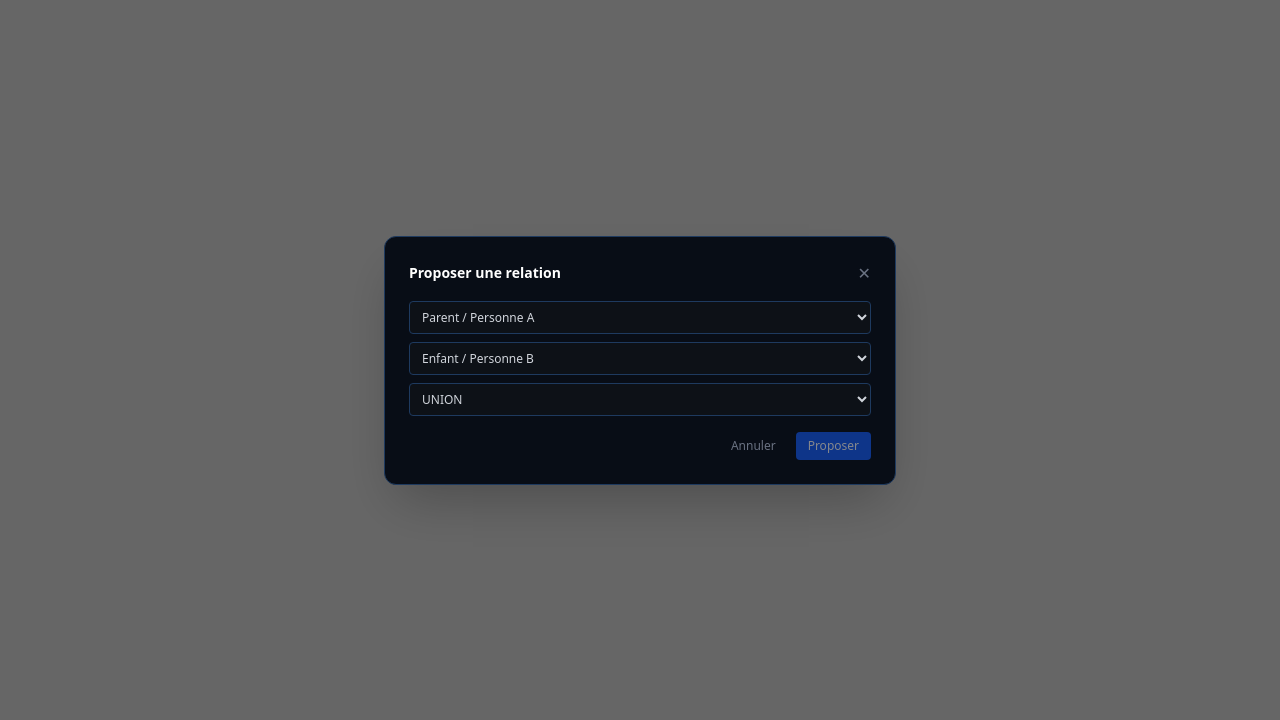
Test case: SuggestionModal — ADD_RELATIONSHIP › shows error when same person selected for A and B
Select "Jean Dupont" in the 1st dropdown at (640, 317), box 409,300 -> 871,334
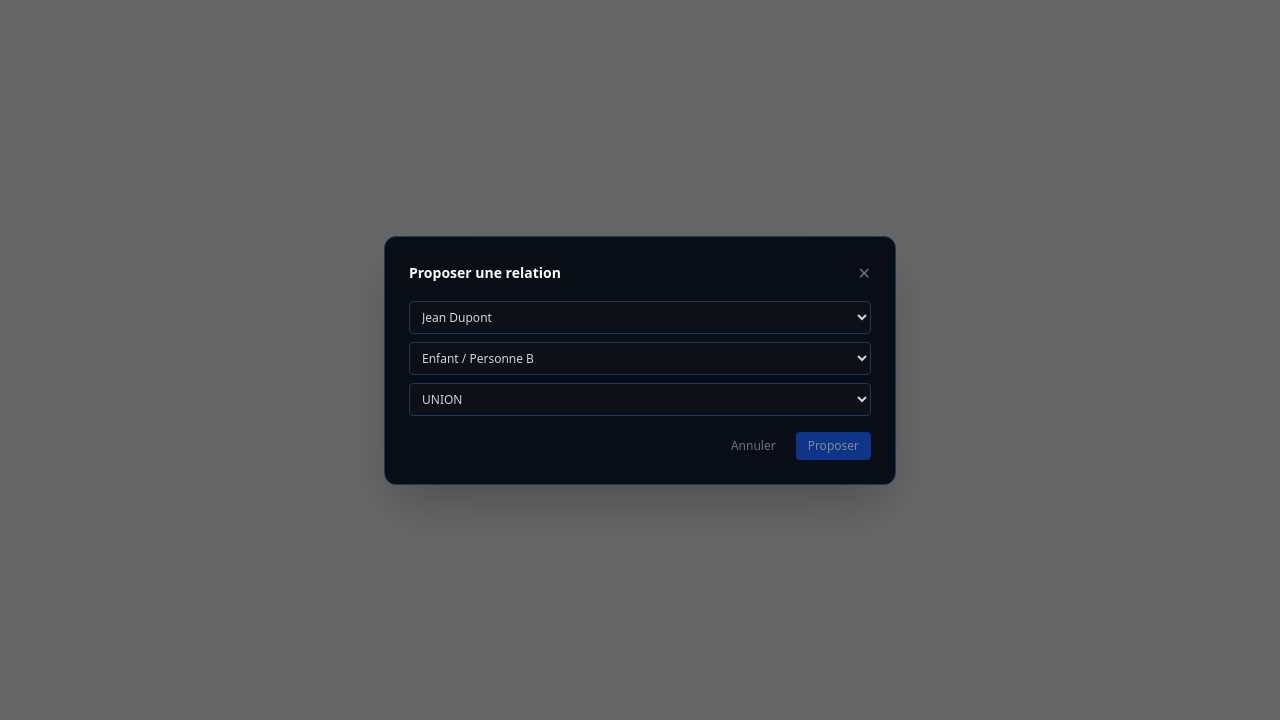
Select "Jean Dupont" in the 2nd dropdown at (640, 358), box 409,342 -> 871,374
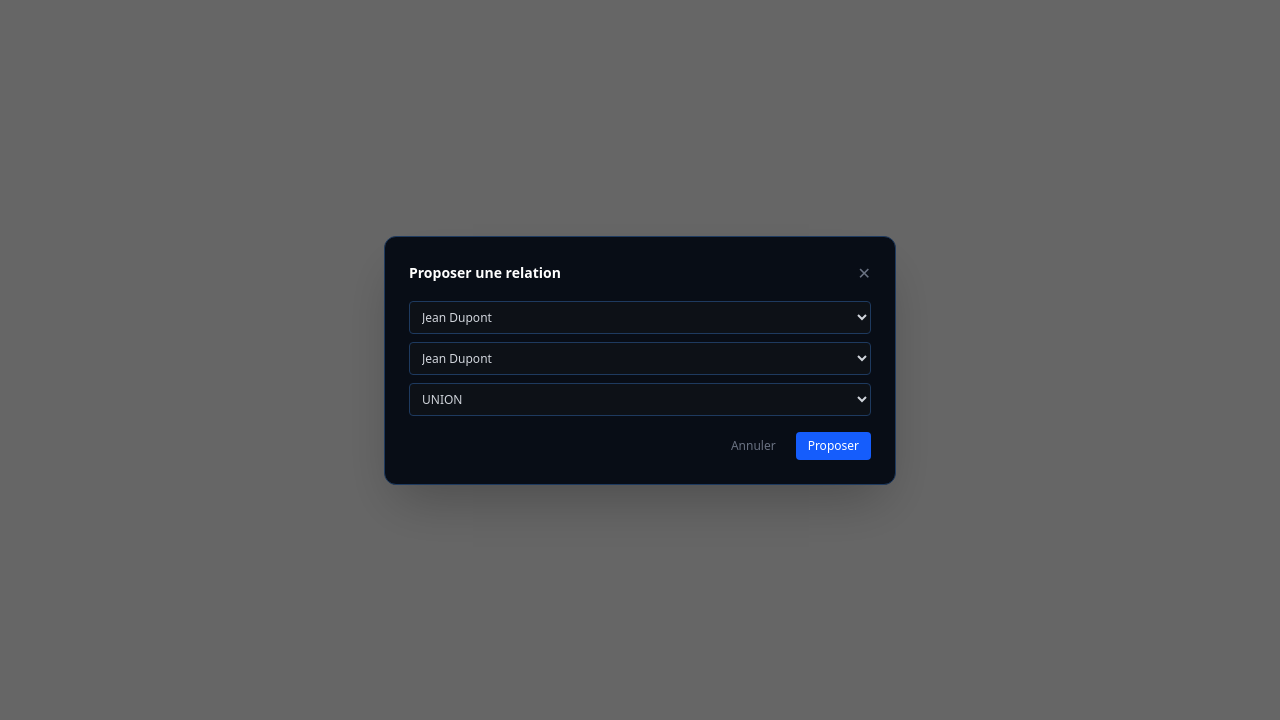
Click the button "Proposer".
click(833, 446)  # box 796,432 -> 871,460
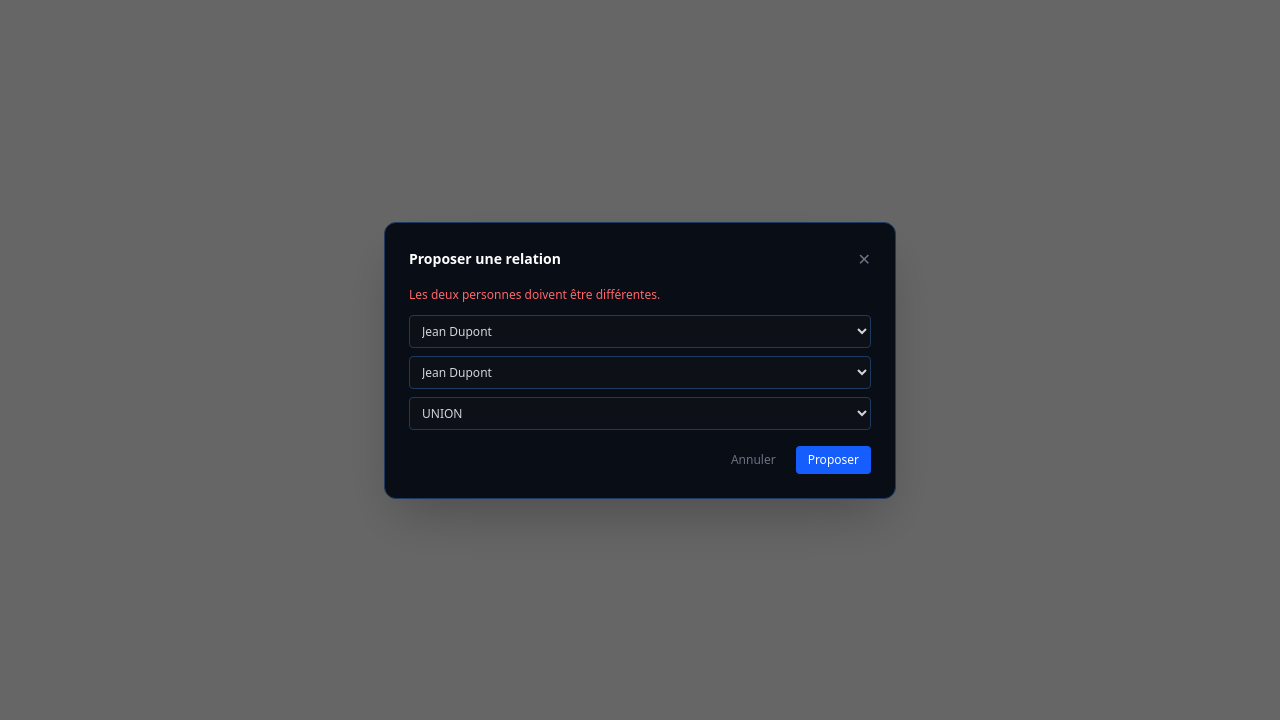
Expected: the text "Les deux personnes doivent être différentes." is shown, 409,286 -> 660,302
